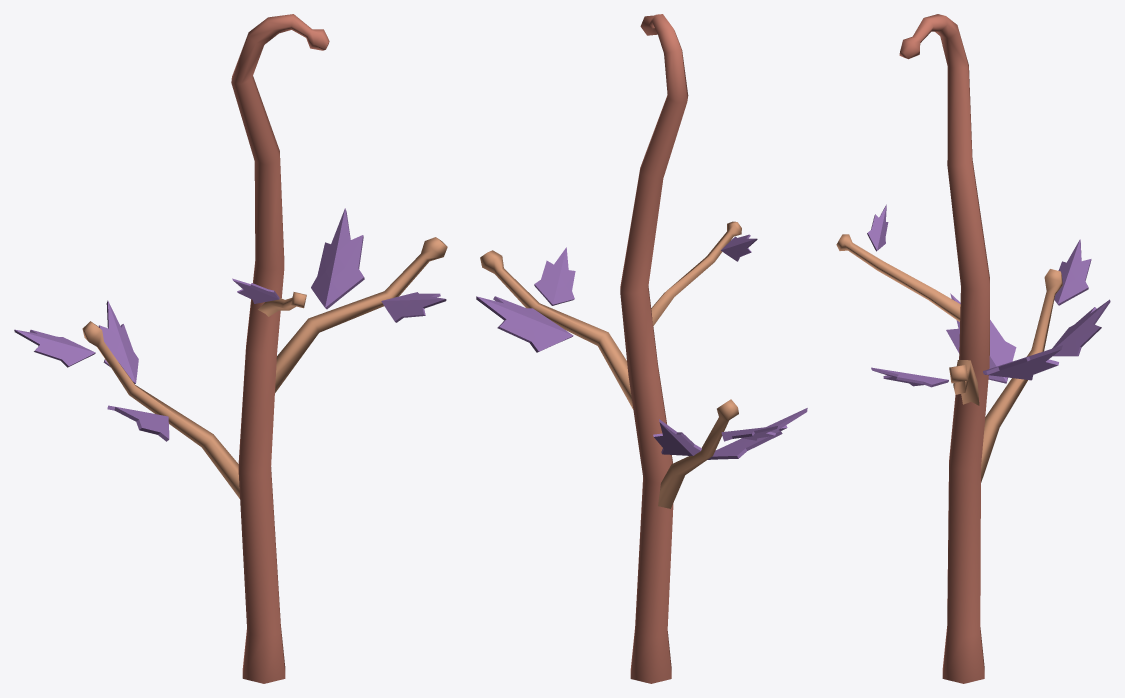
The model's file is asteroidPlant_stage2.fbx.
3 renders of one model, left to right at view 1: azimuth 30°, elevation 25°; view 2: azimuth 150°, elevation 25°; view 3: azimuth 270°, elevation 25°, orthographic. The views are drawn at different scales.
Visible parts, largest first — view 1: asteroidPlant_stem, asteroidPlant_branch1, asteroidPlant_branch2, asteroidPlant_leaf06, asteroidPlant_leaf03, asteroidPlant_leaf04, asteroidPlant_leaf05, asteroidPlant_leaf02; view 2: asteroidPlant_stem, asteroidPlant_branch1, asteroidPlant_leaf06, asteroidPlant_branch2, asteroidPlant_leaf05, asteroidPlant_branch3, asteroidPlant_leaf02, asteroidPlant_leaf03, asteroidPlant_leaf01, asteroidPlant_leaf04; view 3: asteroidPlant_stem, asteroidPlant_branch2, asteroidPlant_branch3, asteroidPlant_leaf03, asteroidPlant_leaf04, asteroidPlant_leaf06, asteroidPlant_leaf02, asteroidPlant_branch1, asteroidPlant_leaf05, asteroidPlant_leaf01.
Boxes of the visible parts, <box> form: asteroidPlant_stem: <box>231,14,329,683</box>; asteroidPlant_branch1: <box>275,237,447,392</box>; asteroidPlant_branch2: <box>82,321,239,498</box>; asteroidPlant_leaf06: <box>311,208,364,309</box>; asteroidPlant_leaf03: <box>98,300,138,383</box>; asteroidPlant_leaf04: <box>14,329,95,367</box>; asteroidPlant_leaf05: <box>381,292,446,322</box>; asteroidPlant_leaf02: <box>107,405,169,441</box>; asteroidPlant_stem: <box>620,14,688,683</box>; asteroidPlant_branch1: <box>480,250,633,409</box>; asteroidPlant_leaf06: <box>476,296,573,352</box>; asteroidPlant_branch2: <box>658,399,738,508</box>; asteroidPlant_leaf05: <box>534,247,575,305</box>; asteroidPlant_branch3: <box>651,221,741,326</box>; asteroidPlant_leaf02: <box>707,408,807,459</box>; asteroidPlant_leaf03: <box>653,419,701,455</box>; asteroidPlant_leaf01: <box>721,234,757,261</box>; asteroidPlant_leaf04: <box>721,426,777,441</box>; asteroidPlant_stem: <box>899,14,989,683</box>; asteroidPlant_branch2: <box>981,269,1062,482</box>; asteroidPlant_branch3: <box>836,234,960,321</box>; asteroidPlant_leaf03: <box>1052,299,1110,356</box>; asteroidPlant_leaf04: <box>1054,239,1091,305</box>; asteroidPlant_leaf06: <box>983,345,1062,380</box>; asteroidPlant_leaf02: <box>946,293,1016,383</box>; asteroidPlant_branch1: <box>949,360,979,405</box>; asteroidPlant_leaf05: <box>871,367,948,387</box>; asteroidPlant_leaf01: <box>867,204,888,251</box>.
Size of the model in its own units: 5.99 by 10.38 by 3.91.
